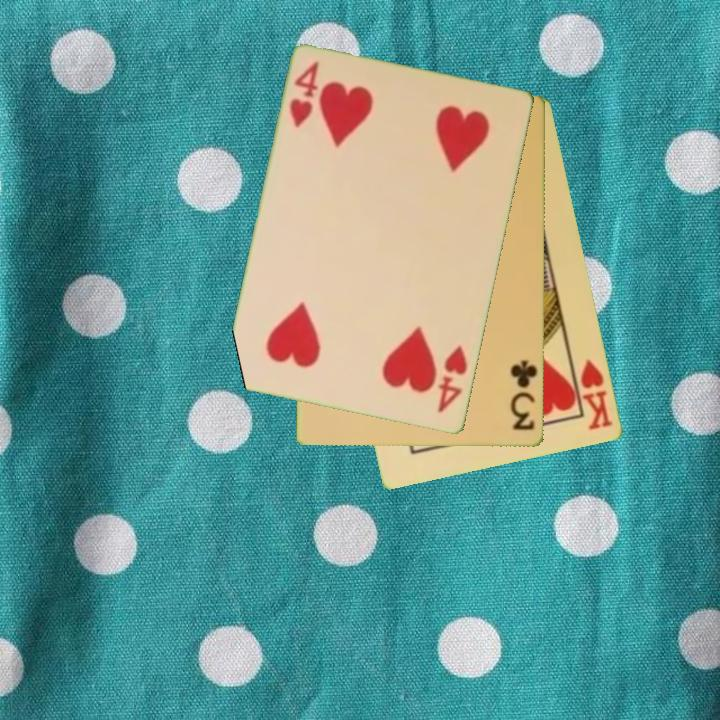3c: (508, 357, 541, 434)
4h: (435, 341, 471, 416), (286, 57, 322, 131)
Kh: (568, 354, 616, 433)
